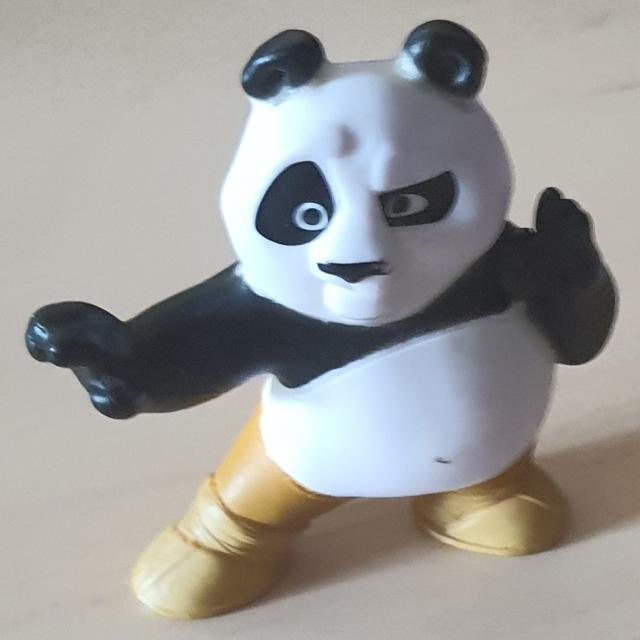Panda: (24, 19, 619, 620)
